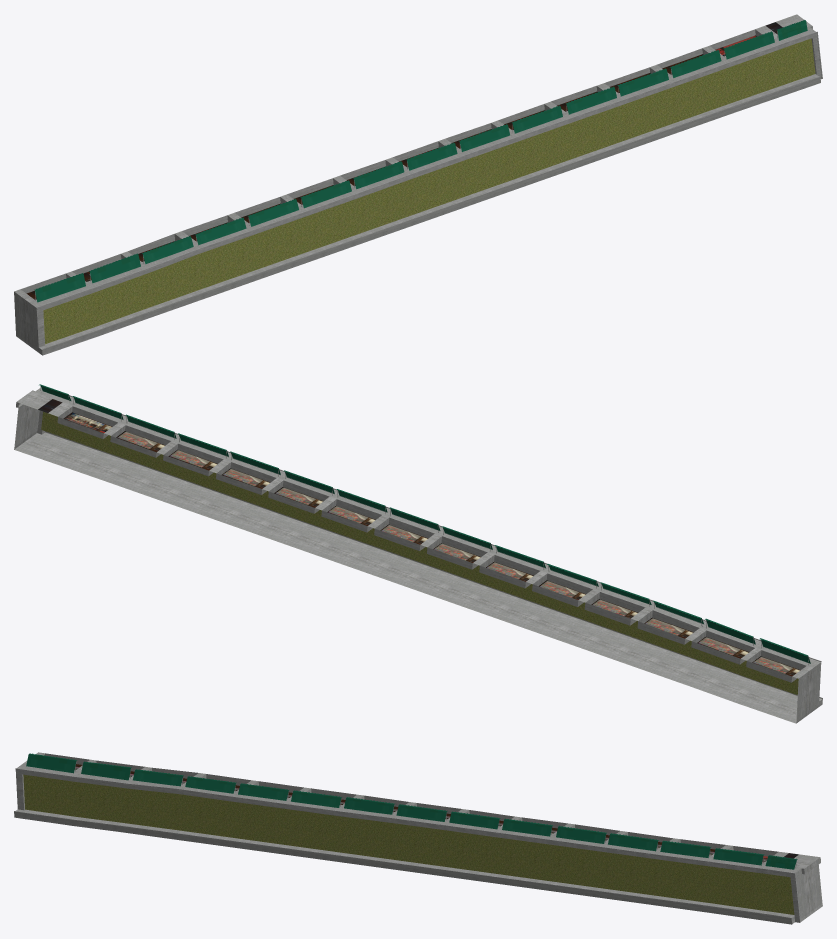
The model's file is Viru_26.obj.
3 views of the same model, one above another, from view 1: azimuth 30°, elevation 25°; view 2: azimuth 150°, elevation 25°; view 3: azimuth 330°, elevation 25° (orthographic).
Visible parts, largest first — view 1: Viru_26; view 2: Viru_26; view 3: Viru_26.
Part boxes in pixels (box(x1,y1,x2,y2)): Viru_26: box(14, 14, 822, 355); Viru_26: box(14, 384, 822, 723); Viru_26: box(14, 752, 822, 924).
Bounding box in the file's own units: 65.2 × 11.02 × 3.8.
6 materials, 6 textured.
